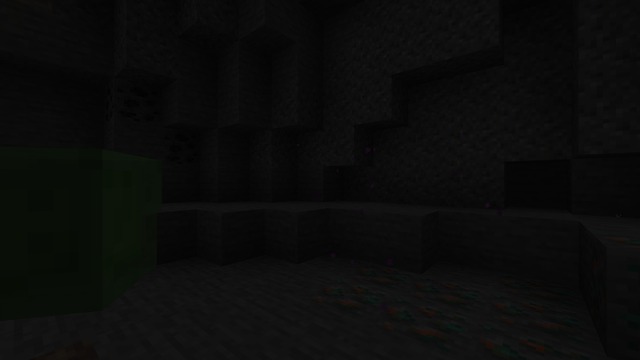slimes: (10, 138, 165, 325)
